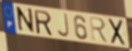6: (73, 14, 89, 41)
J: (56, 13, 70, 38)
N: (17, 6, 36, 35)
R: (88, 16, 110, 45), (33, 9, 54, 38)
X: (108, 18, 127, 47)
